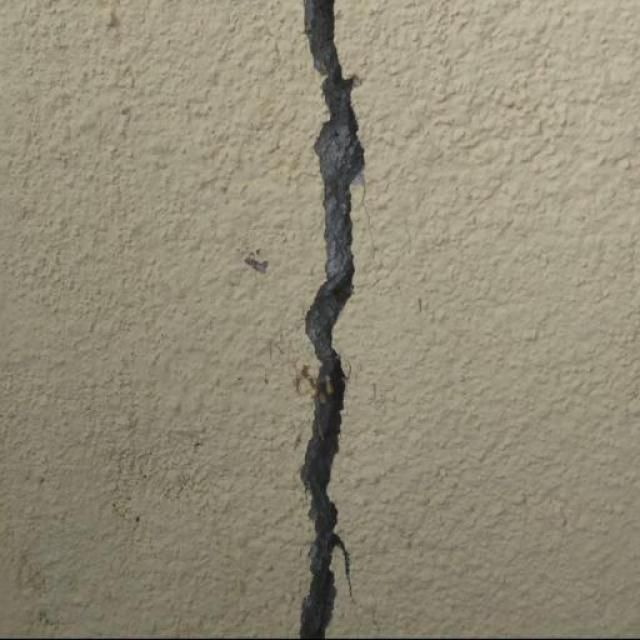crack: (206, 0, 451, 640)
crack_mold_damp_spalling_cor: (206, 0, 451, 640)
